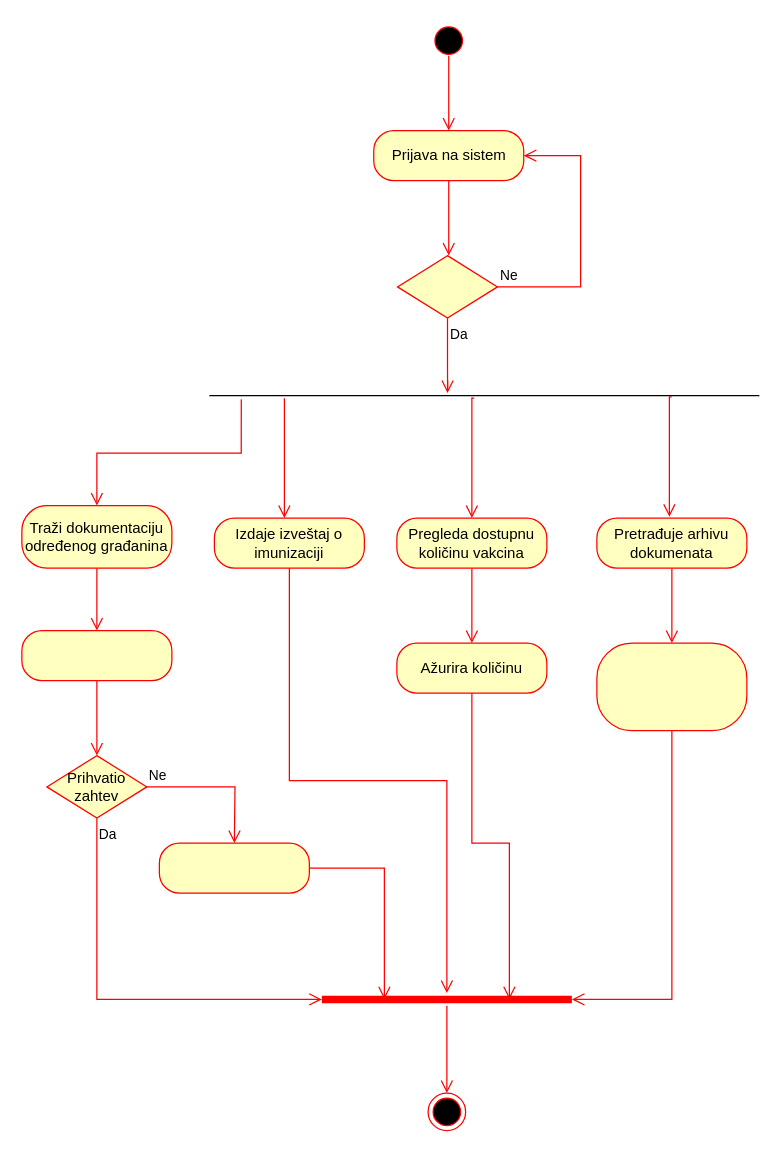
Image size: 781x1153. Some labels were removed from this diagram. The centre of each missing label's shape, as x and y in pixels:
"Donosi odluku o prihvatanju zahteva" goes at point 96,655.
"Piše razlog odbijanja zahteva" goes at point 233,867.
"uspešna prjava" goes at point 447,286.
"Šalje zahtev za kreiranje PDF ili XHTML pronađenog dokumenta" goes at point 671,686.
